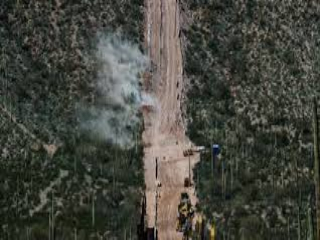smoke: (93, 36, 163, 158)
